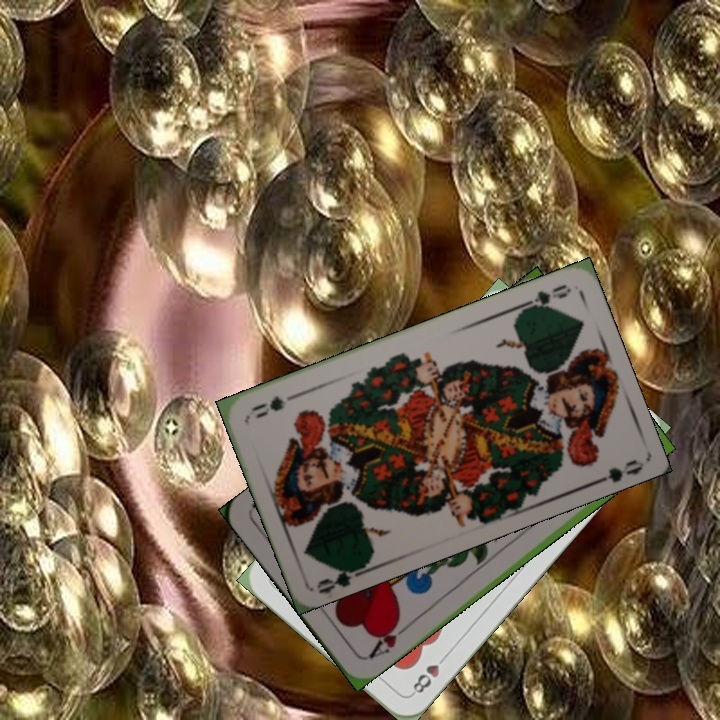GO: (313, 559, 372, 596), (516, 280, 574, 317)
H8: (407, 649, 451, 698)
HA: (364, 615, 413, 662)
